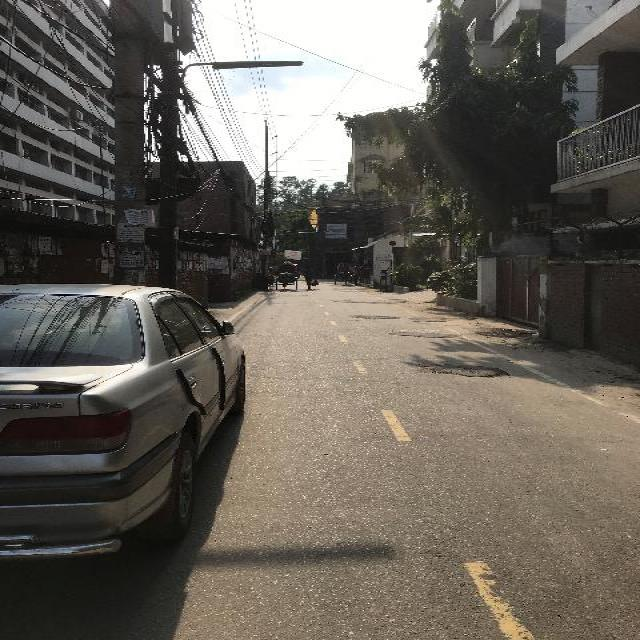vehicle: (1, 280, 250, 568), (276, 264, 299, 293), (334, 262, 353, 286)
